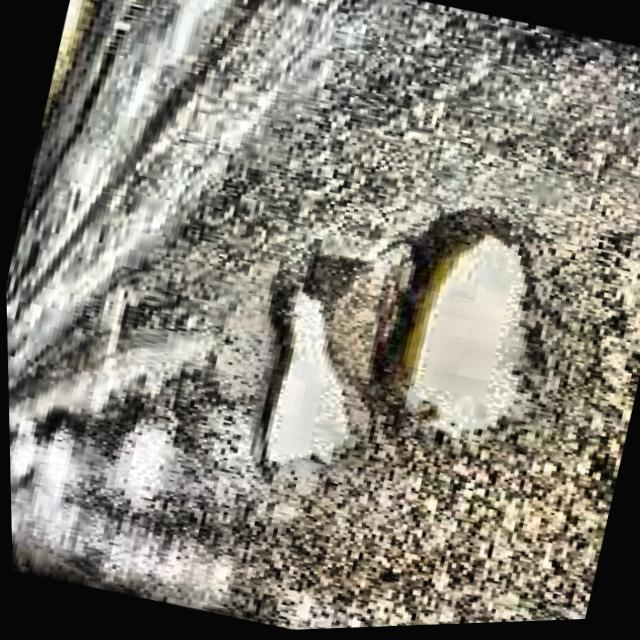Cracks: (401, 241, 522, 437), (263, 295, 344, 466)
